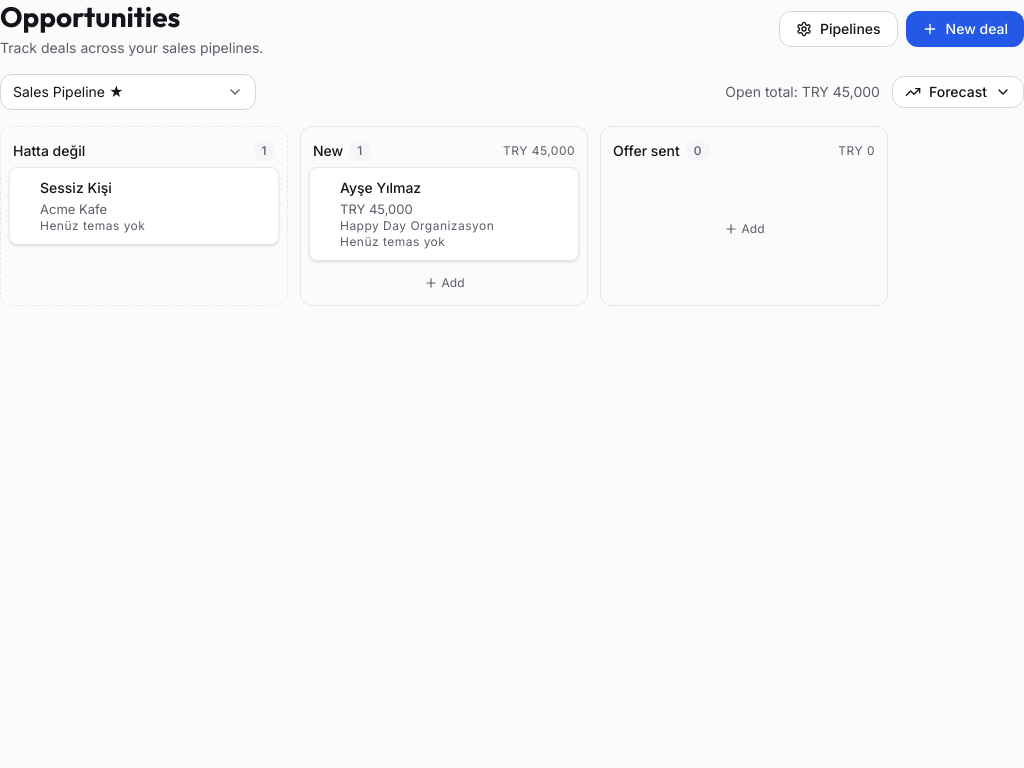
OpportunitiesPage — embedded as the surface Hat view › leaves the standalone board alone — a card click still opens the dialog
Click the button with test id "deal-card-o1".
click(381, 187)  # box x1=309 y1=167 x2=579 y2=261
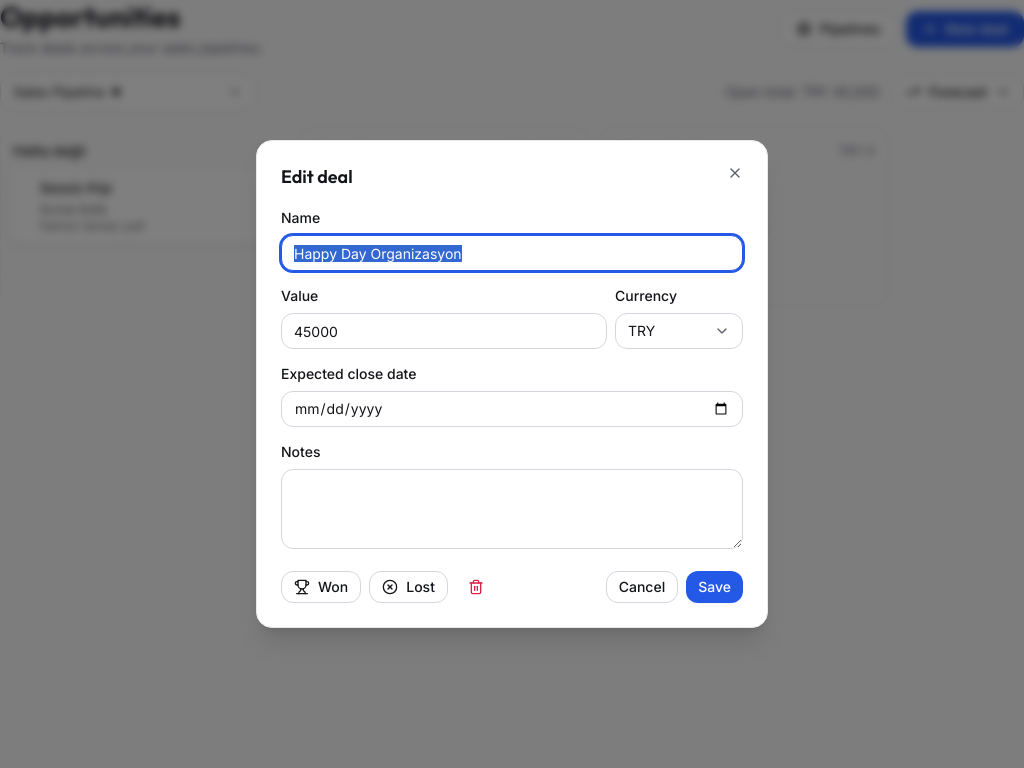
Result: the field showing "Happy Day Organizasyon" is shown at x1=281 y1=235 x2=743 y2=271
